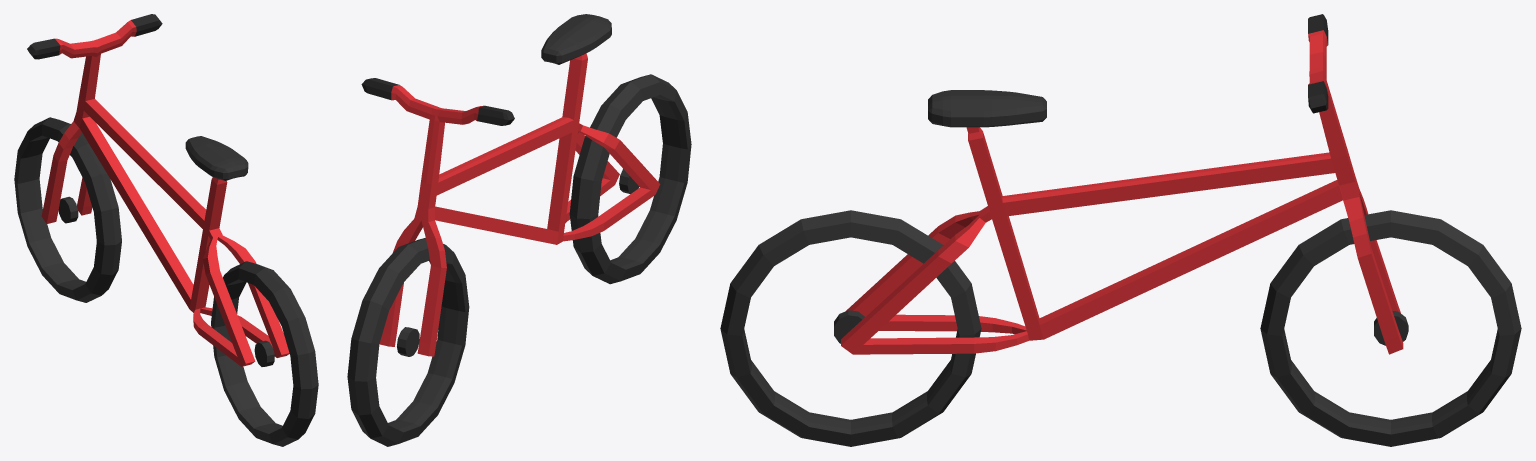
Rendered from squareframebicycle.glb.
The picture shows the model from 3 angles, left to right: view 1: azimuth 30°, elevation 25°; view 2: azimuth 150°, elevation 25°; view 3: azimuth 270°, elevation 25°; orthographic projection. The views are drawn at different scales.
Visible parts, largest first — view 1: Frame, FrontWheel, BackWheel, Handle, Saddle; view 2: FrontWheel, BackWheel, Frame, Handle, Saddle; view 3: Frame, FrontWheel, BackWheel, Handle, Saddle.
Boxes of the visible parts, <box> form: Frame: <box>79,99,289,366</box>; FrontWheel: <box>14,117,121,302</box>; BackWheel: <box>211,261,318,446</box>; Handle: <box>27,14,162,223</box>; Saddle: <box>185,136,248,180</box>; FrontWheel: <box>347,238,469,446</box>; BackWheel: <box>569,74,691,284</box>; Frame: <box>435,53,660,244</box>; Handle: <box>361,78,514,356</box>; Saddle: <box>541,14,611,64</box>; Frame: <box>841,127,1343,354</box>; FrontWheel: <box>1260,210,1521,446</box>; BackWheel: <box>720,210,981,446</box>; Handle: <box>1308,14,1403,354</box>; Saddle: <box>928,90,1046,127</box>.
Bounding box in the file's own units: 1.5 × 3.15 × 5.83.
